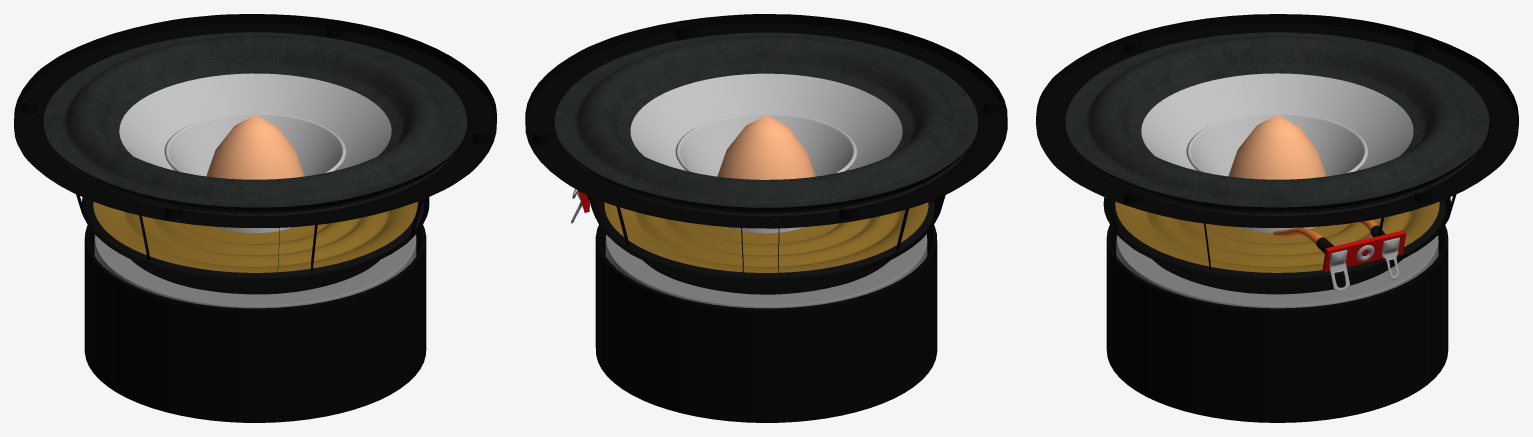
Rendered from Speaker6.fbx.
The picture shows the model from 3 angles, left to right: view 1: azimuth 30°, elevation 25°; view 2: azimuth 150°, elevation 25°; view 3: azimuth 270°, elevation 25°; orthographic projection.
Parts seen in each view (by area): view 1: Círculo, Círculo.008, Círculo.001, Círculo.004, Círculo.002, Círculo.012, Círculo.006, Círculo.007, Círculo.003, Círculo.011; view 2: Círculo, Círculo.008, Círculo.001, Círculo.004, Círculo.002, Círculo.012, Círculo.006, Círculo.007, Círculo.003, Círculo.011; view 3: Círculo, Círculo.008, Círculo.001, Círculo.004, Círculo.002, Círculo.012, Círculo.006, Círculo.007, Círculo.003, Círculo.011, Plano, Plano.001 (+1 smaller).
Boxes of the visible parts, x1,y1,x2,y2 form: Círculo: [84, 225, 426, 422]; Círculo.008: [43, 32, 467, 211]; Círculo.001: [14, 14, 496, 294]; Círculo.004: [119, 73, 391, 170]; Círculo.002: [93, 201, 417, 272]; Círculo.012: [94, 234, 416, 308]; Círculo.006: [164, 112, 346, 176]; Círculo.007: [206, 115, 304, 179]; Círculo.003: [87, 199, 423, 278]; Círculo.011: [51, 145, 456, 216]; Círculo: [595, 225, 937, 422]; Círculo.008: [554, 32, 978, 210]; Círculo.001: [525, 14, 1007, 294]; Círculo.004: [630, 73, 902, 170]; Círculo.002: [604, 202, 928, 272]; Círculo.012: [605, 234, 927, 308]; Círculo.006: [675, 113, 857, 176]; Círculo.007: [717, 115, 815, 179]; Círculo.003: [598, 200, 934, 278]; Círculo.011: [564, 147, 969, 216]; Círculo: [1106, 225, 1448, 422]; Círculo.008: [1065, 32, 1489, 211]; Círculo.001: [1036, 14, 1518, 294]; Círculo.004: [1141, 73, 1413, 170]; Círculo.002: [1115, 202, 1439, 272]; Círculo.012: [1116, 235, 1438, 308]; Círculo.006: [1186, 112, 1368, 176]; Círculo.007: [1228, 115, 1326, 179]; Círculo.003: [1109, 199, 1445, 278]; Círculo.011: [1077, 148, 1480, 215]; Plano: [1322, 230, 1406, 272]; Plano.001: [1329, 237, 1399, 291].
Size of the model in its own units: 9.27 by 5.13 by 9.27.
